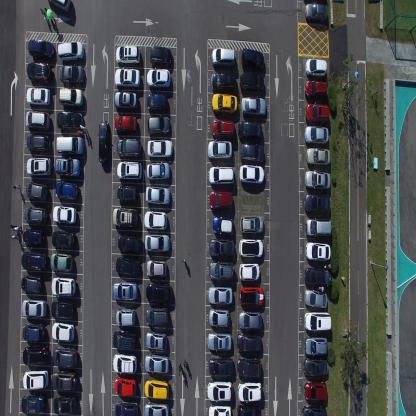car: (57, 40, 84, 64), (210, 92, 238, 115), (27, 38, 55, 61), (303, 311, 332, 333), (115, 254, 140, 279), (304, 100, 330, 124), (112, 206, 138, 230), (52, 345, 78, 369), (304, 216, 332, 238), (54, 156, 82, 178), (144, 377, 169, 401), (239, 70, 265, 93), (241, 96, 267, 119), (236, 356, 262, 379), (146, 282, 172, 305), (58, 86, 84, 109), (304, 168, 331, 190), (208, 260, 235, 282), (208, 237, 235, 259), (208, 164, 235, 186), (114, 68, 141, 90), (50, 370, 77, 392), (22, 344, 49, 366), (212, 46, 236, 70), (237, 119, 262, 142), (237, 380, 262, 403), (143, 209, 168, 232), (116, 137, 141, 160), (52, 203, 77, 226), (26, 61, 51, 84), (304, 192, 330, 214), (305, 240, 331, 262), (239, 164, 265, 186), (236, 332, 262, 354), (207, 379, 233, 401), (207, 356, 233, 378), (207, 284, 233, 306), (206, 138, 232, 160), (147, 138, 173, 160), (115, 44, 141, 66), (58, 64, 84, 86), (21, 250, 47, 272), (144, 185, 171, 206), (25, 156, 52, 177), (56, 135, 84, 155), (304, 1, 328, 24), (303, 380, 328, 402), (239, 214, 264, 236), (239, 285, 264, 307), (208, 190, 233, 212), (146, 68, 171, 90), (117, 160, 142, 182), (112, 352, 137, 374), (50, 298, 75, 320), (25, 109, 50, 131), (23, 369, 48, 391), (303, 124, 329, 145), (210, 71, 237, 91), (303, 266, 331, 285), (303, 78, 327, 100), (304, 288, 328, 310), (146, 114, 170, 136), (146, 160, 170, 182), (114, 114, 138, 136), (113, 328, 137, 350), (98, 119, 110, 163), (55, 180, 79, 202), (26, 85, 50, 107), (25, 180, 49, 202), (144, 353, 169, 374), (25, 133, 50, 154), (238, 238, 264, 258), (144, 232, 170, 252), (112, 280, 138, 300), (21, 298, 47, 318), (302, 358, 329, 377), (57, 110, 84, 129), (304, 56, 326, 79), (241, 48, 264, 70), (212, 214, 234, 237), (116, 183, 139, 205), (240, 143, 264, 164), (211, 118, 235, 139), (114, 90, 138, 111), (24, 205, 48, 226), (207, 332, 232, 352), (145, 306, 170, 326), (117, 234, 142, 254), (51, 276, 76, 296), (208, 308, 230, 330), (114, 375, 136, 397), (50, 251, 73, 272), (51, 321, 74, 342), (20, 273, 43, 294), (306, 146, 330, 166), (304, 336, 328, 356), (238, 310, 262, 330), (22, 322, 46, 342), (21, 394, 45, 414), (150, 45, 172, 66), (145, 330, 167, 351), (147, 93, 168, 114), (115, 306, 136, 327), (238, 262, 260, 282), (51, 229, 74, 248), (53, 395, 76, 414), (22, 228, 46, 246), (146, 258, 167, 278), (114, 400, 138, 416), (143, 402, 169, 416), (48, 0, 72, 14), (236, 403, 261, 415), (302, 404, 327, 415), (208, 404, 232, 415)
